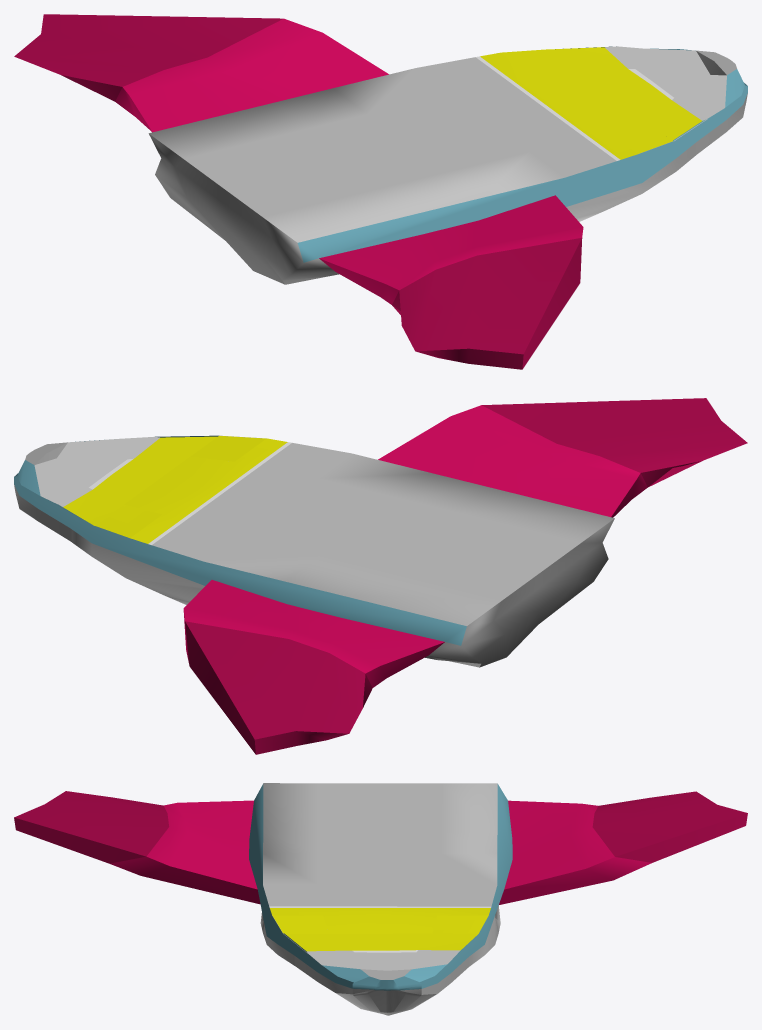
The model's file is 091618_airplanerevised_finally.fbx.
3 renders of one model, top to bottom at view 1: azimuth 30°, elevation 25°; view 2: azimuth 150°, elevation 25°; view 3: azimuth 270°, elevation 25°, orthographic. The views are drawn at different scales.
Parts seen in each view (by area): view 1: airplane; view 2: airplane; view 3: airplane.
Part boxes in pixels (x1,y1,x2,y2): airplane: (14,14,747,369); airplane: (14,398,747,754); airplane: (14,783,747,1015).
Bounding box in the file's own units: 30.56 × 6.57 × 47.52.
